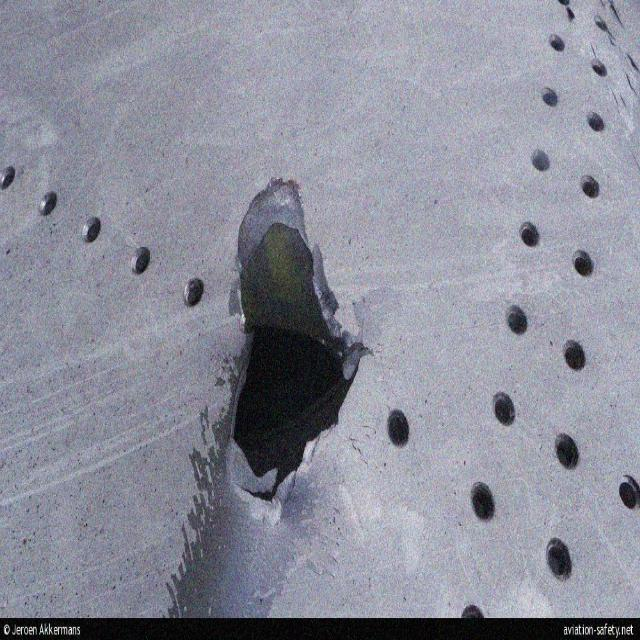crack: (223, 176, 377, 522), (605, 2, 630, 35), (626, 50, 640, 72)
